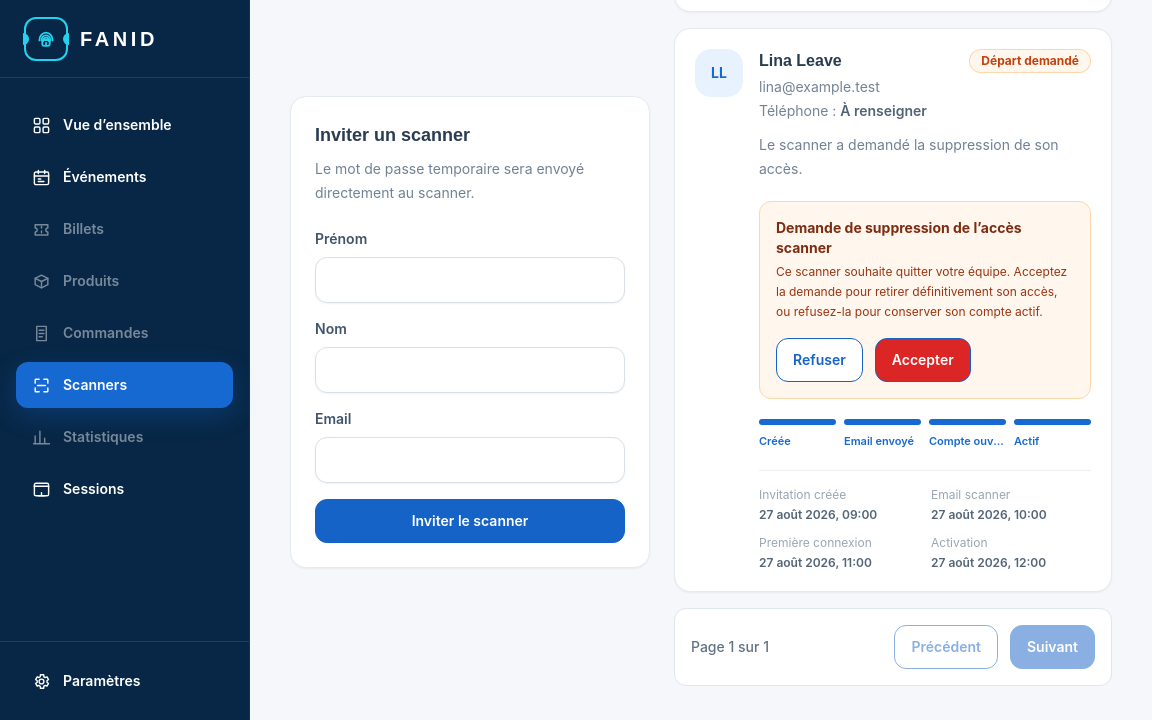
OrganizerScannersPage - OTP actions sensibles › demande LEAVE_ACCEPT puis accepte le départ avec OTP
The width and height of the screenshot is (1152, 720).
(page scrolled)
Click the button "Accepter" at (923, 360), box [875,338,971,382]
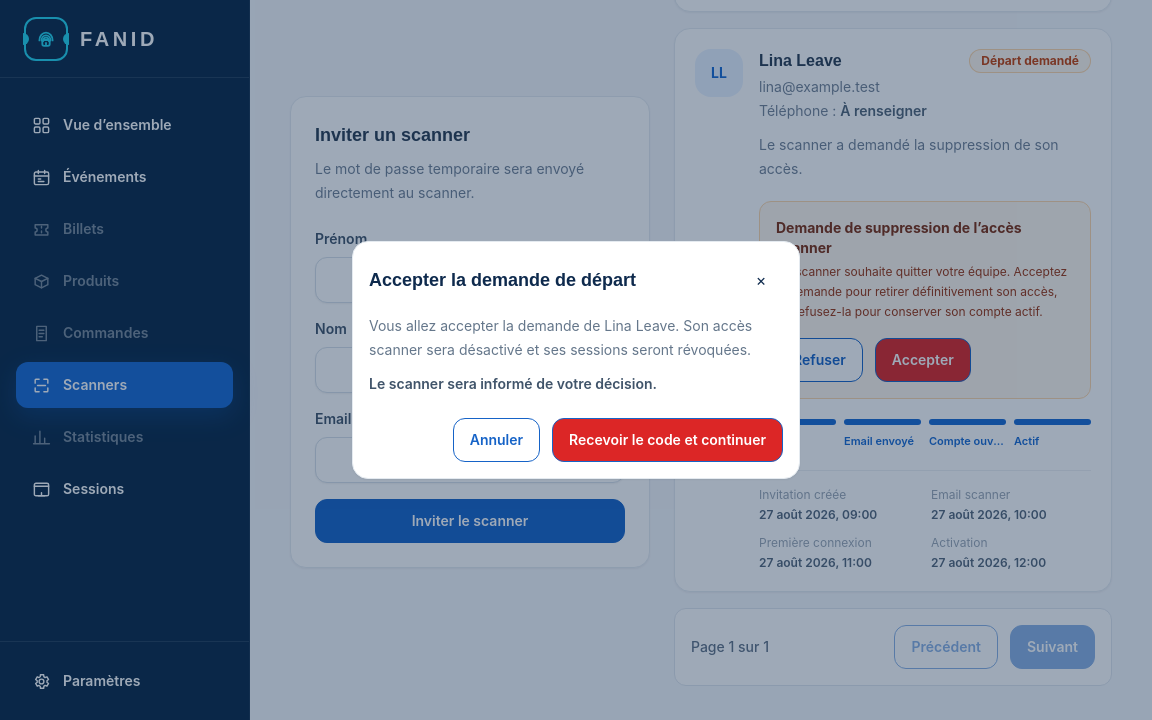
Expected: the dialog "Accepter la demande de départ" is shown
Click the button "Recevoir le code et continuer" at (668, 440), box [552,418,783,462]
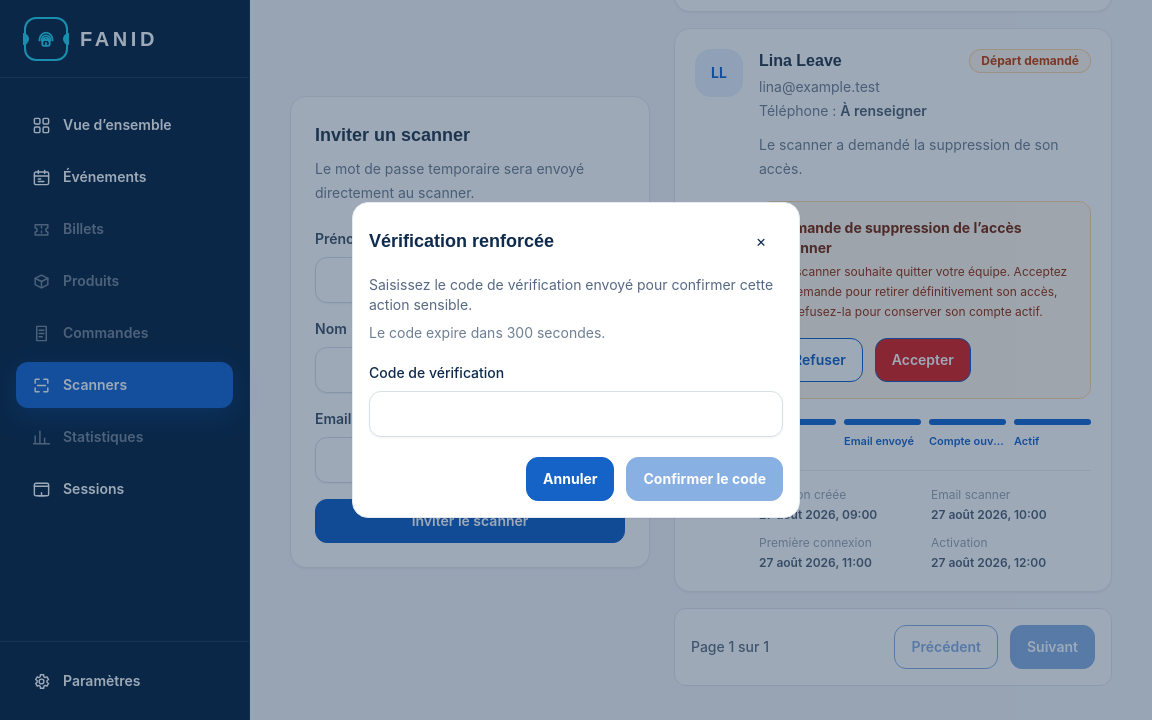
Expected: the dialog "Vérification renforcée" is shown
Type "654321" into the field labelled "Code de vérification" at (576, 414), box [369,391,783,437]
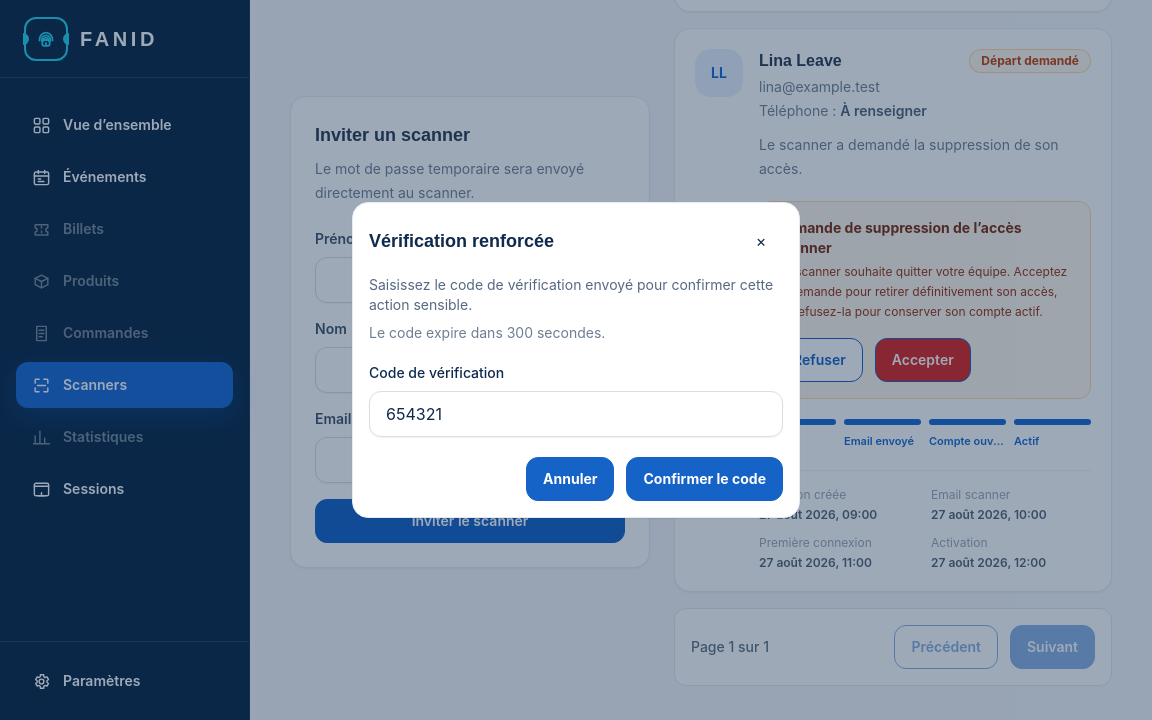
Click the button "Confirmer le code" at (705, 479), box [626,457,783,501]
(page scrolled)
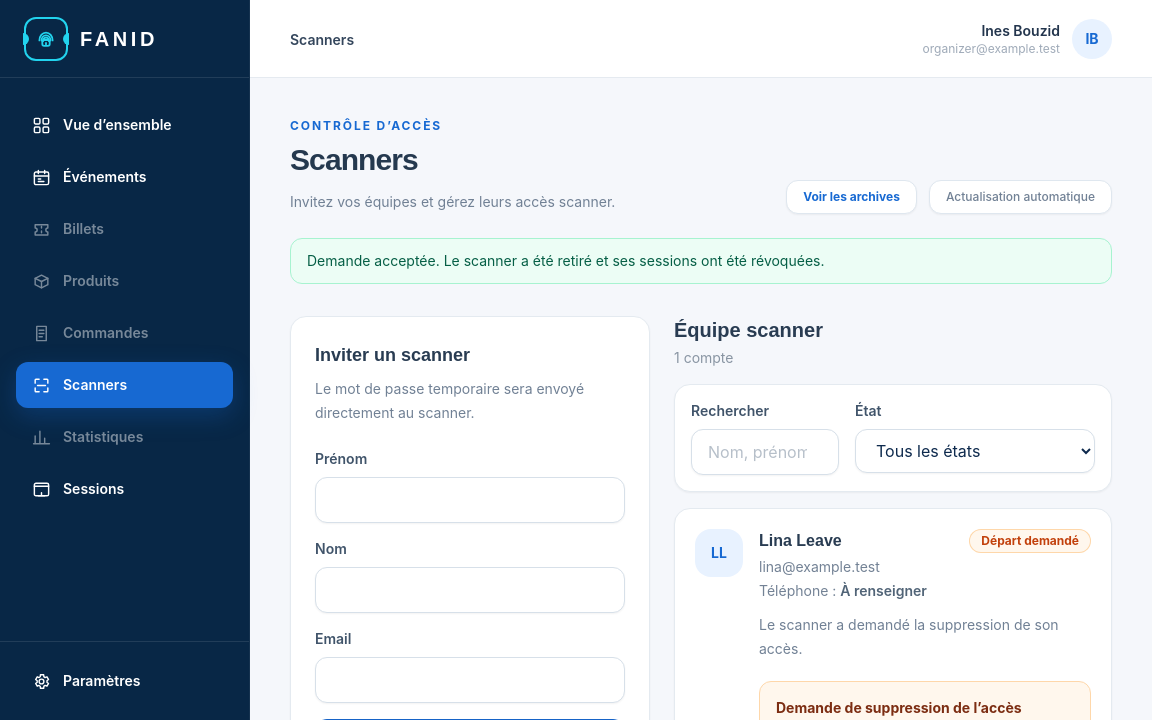
Expected: the text "Demande acceptée. Le scanner a été retiré et ses sessions ont été révoquées." is shown, [290,238,1112,284]
